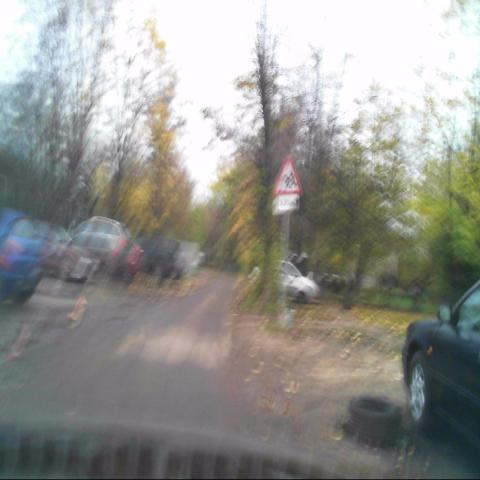8_2_1: (276, 194, 299, 211)
